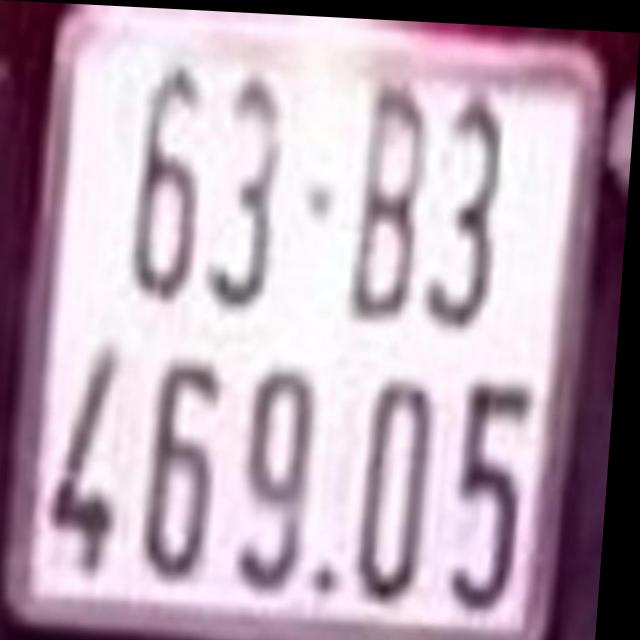0: (360, 372, 446, 594)
3: (436, 84, 507, 330), (217, 65, 286, 302)
4: (52, 341, 130, 574)
5: (453, 371, 534, 602)
6: (131, 56, 208, 306), (151, 352, 227, 575)
9: (251, 365, 320, 592)
B: (348, 73, 429, 319)
